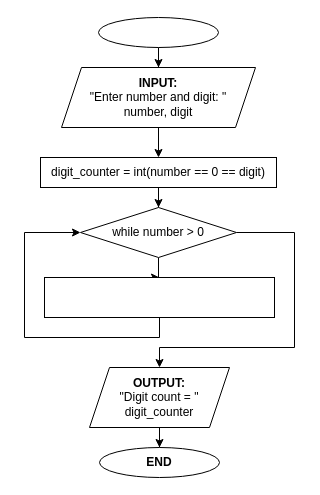
The diagram is 320 pixels wide and 495 high, and some of its shapes have lost their labels. The centre of each missing label's shape, as x and y in pixels:
"BEGIN" belongs at pixel 158 32.
"digit_counter += (number % 10 == digit) number //= 10" belongs at pixel 159 297.
